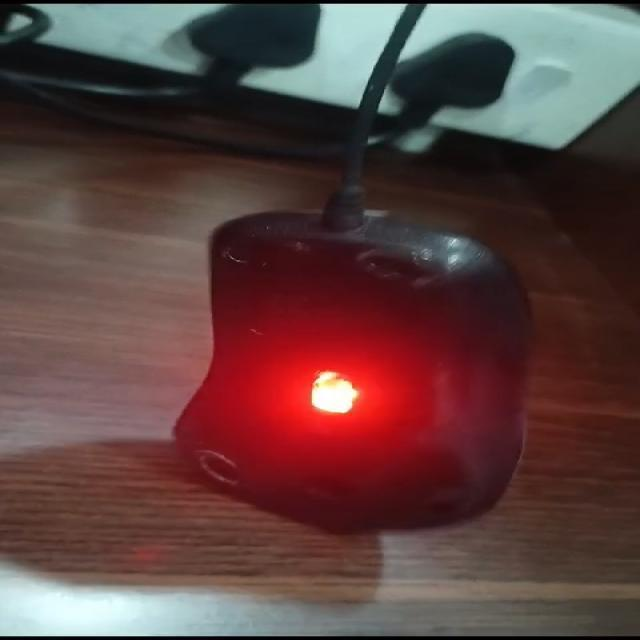Mouse: (128, 146, 554, 566)
